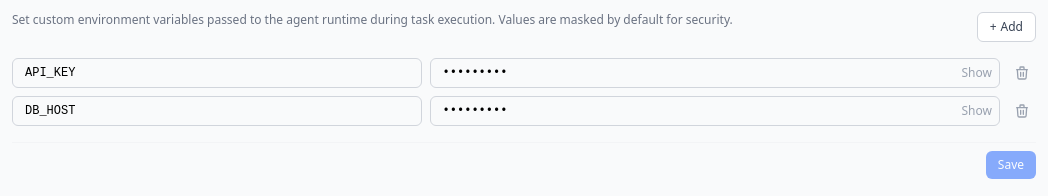
Scenario: EnvironmentTab › Delete button removes row
Click the button named "remove environment variable": [1022, 73] box [1008,59,1036,87]
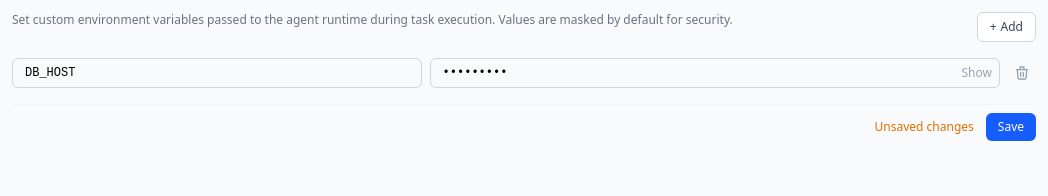
expect the number of fields named "environment variable key" is 1: met, box [12,58,422,88]
